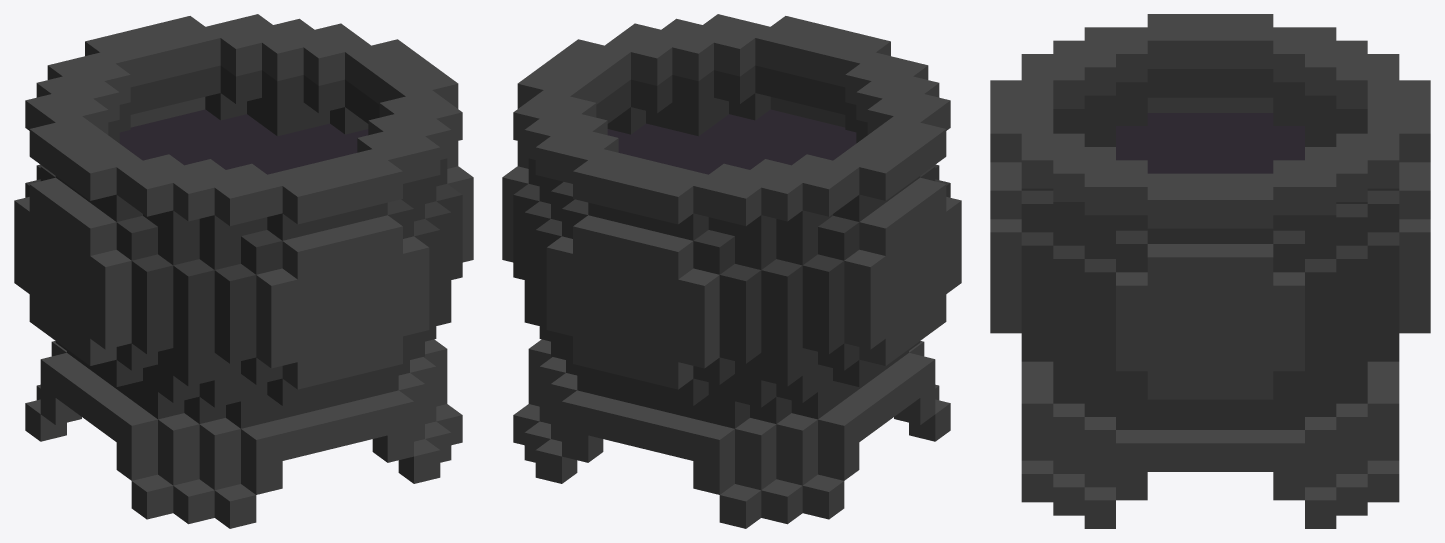
File: Cauldron.obj
The picture shows the model from 3 angles, left to right: view 1: azimuth 30°, elevation 25°; view 2: azimuth 150°, elevation 25°; view 3: azimuth 270°, elevation 25°; orthographic projection. The views are drawn at different scales.
Size of the model in its own units: 1.4 by 1.2 by 1.4.
Materials: 1 (1 with a texture image).
